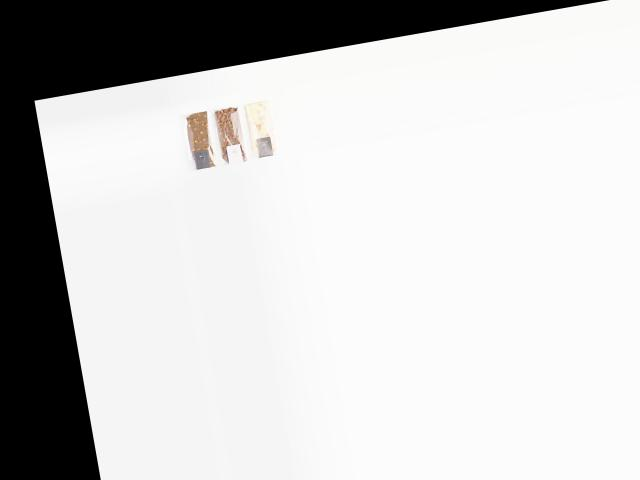chocolate: (179, 108, 215, 170)
